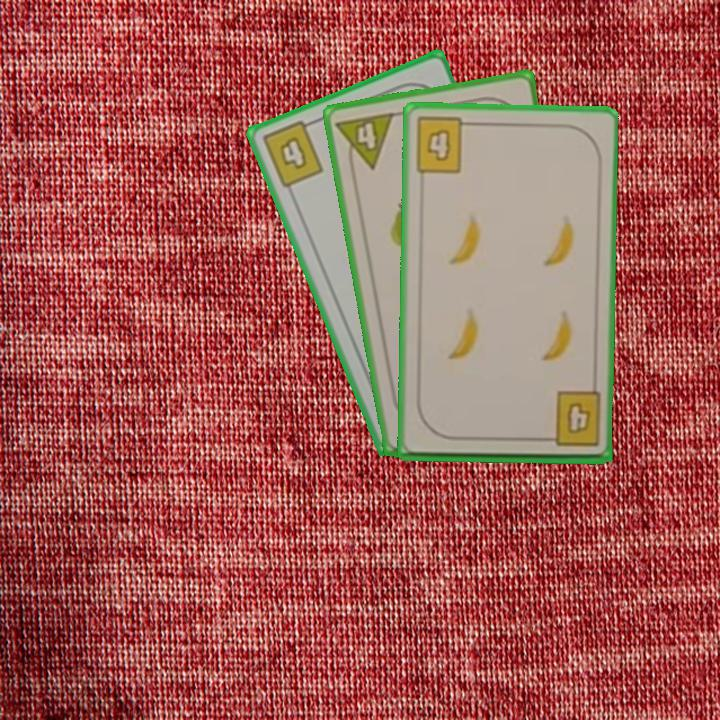4b: (258, 115, 326, 191), (411, 114, 476, 176), (538, 388, 603, 450)
4p: (332, 109, 397, 175)
